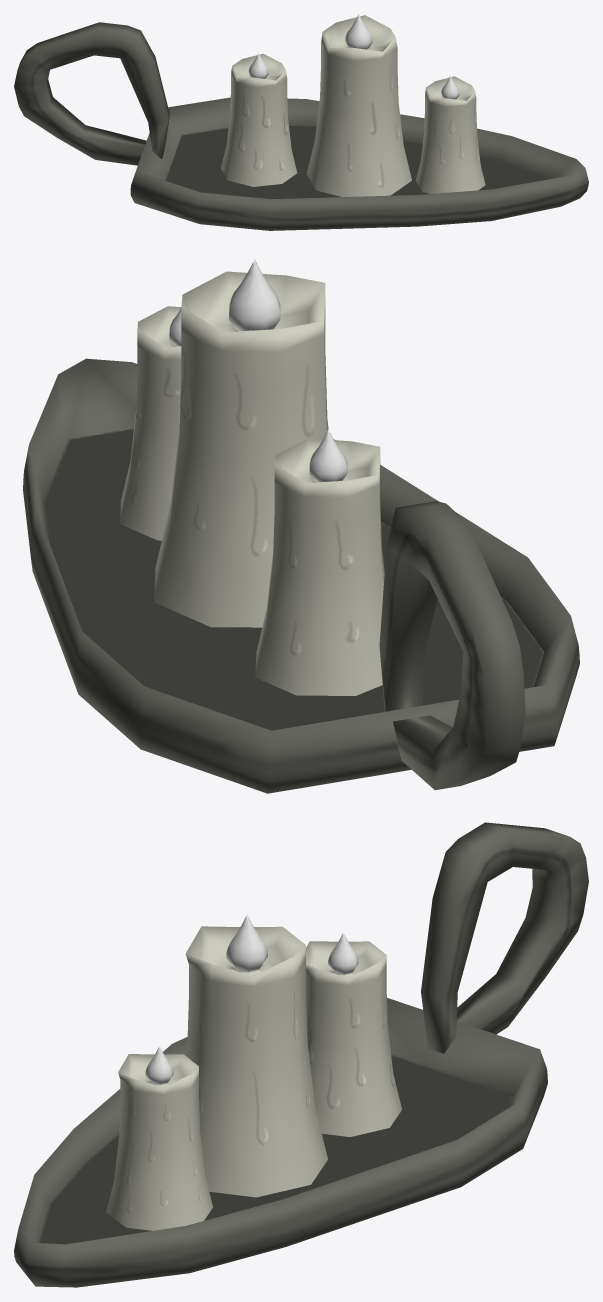
File: Velas.fbx
3 views of the same model, one above another, from view 1: azimuth 30°, elevation 25°; view 2: azimuth 150°, elevation 25°; view 3: azimuth 270°, elevation 25° (orthographic). The views are drawn at different scales.
Visible parts, largest first — view 1: Candles.001; view 2: Candles.001; view 3: Candles.001.
Boxes of the visible parts, x1,y1,x2,y2 form: Candles.001: [14, 14, 588, 230]; Candles.001: [23, 259, 579, 793]; Candles.001: [14, 822, 588, 1287].
Size of the model in its own units: 34.51 by 14.03 by 28.16.
